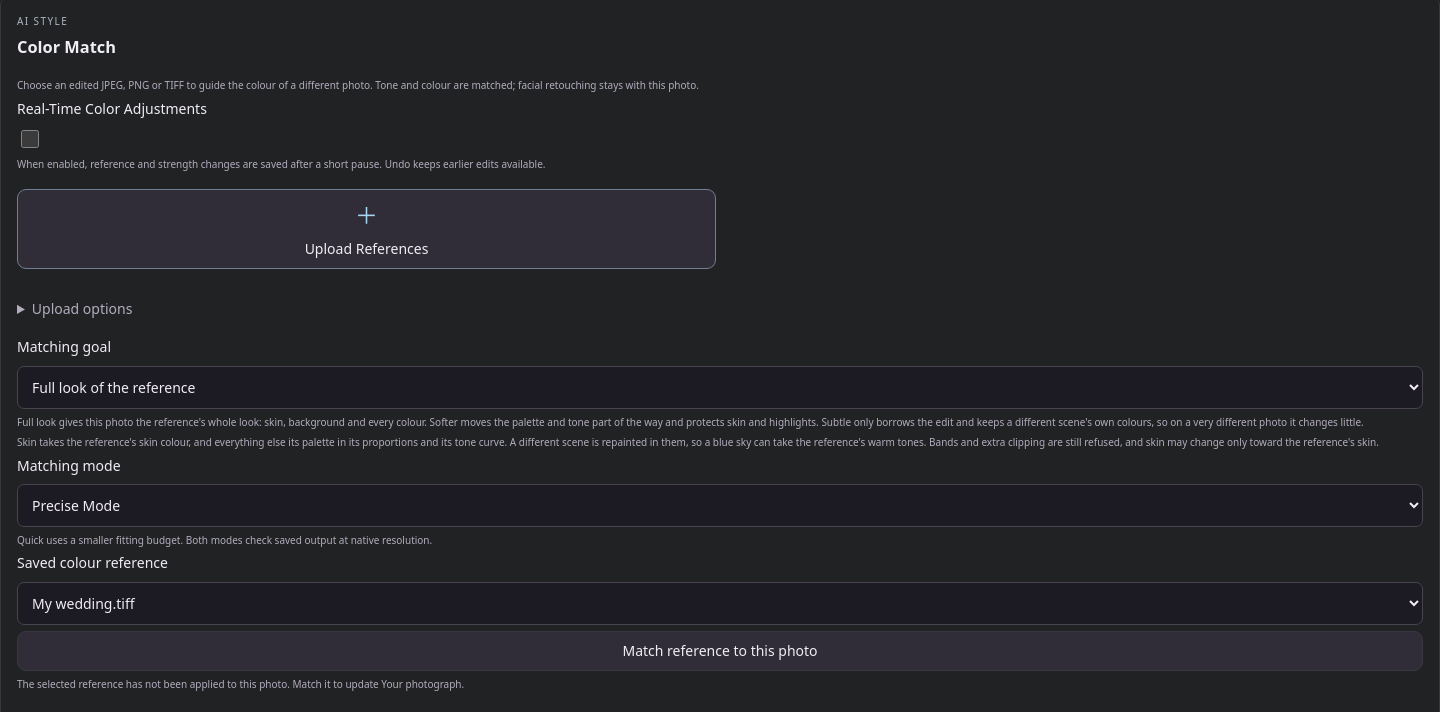
never applies a one-click analysis returned for another reference
The image size is (1440, 712).
Click the button "Match reference to this photo".
click(720, 651)  # box [17,631,1423,671]
(page scrolled)
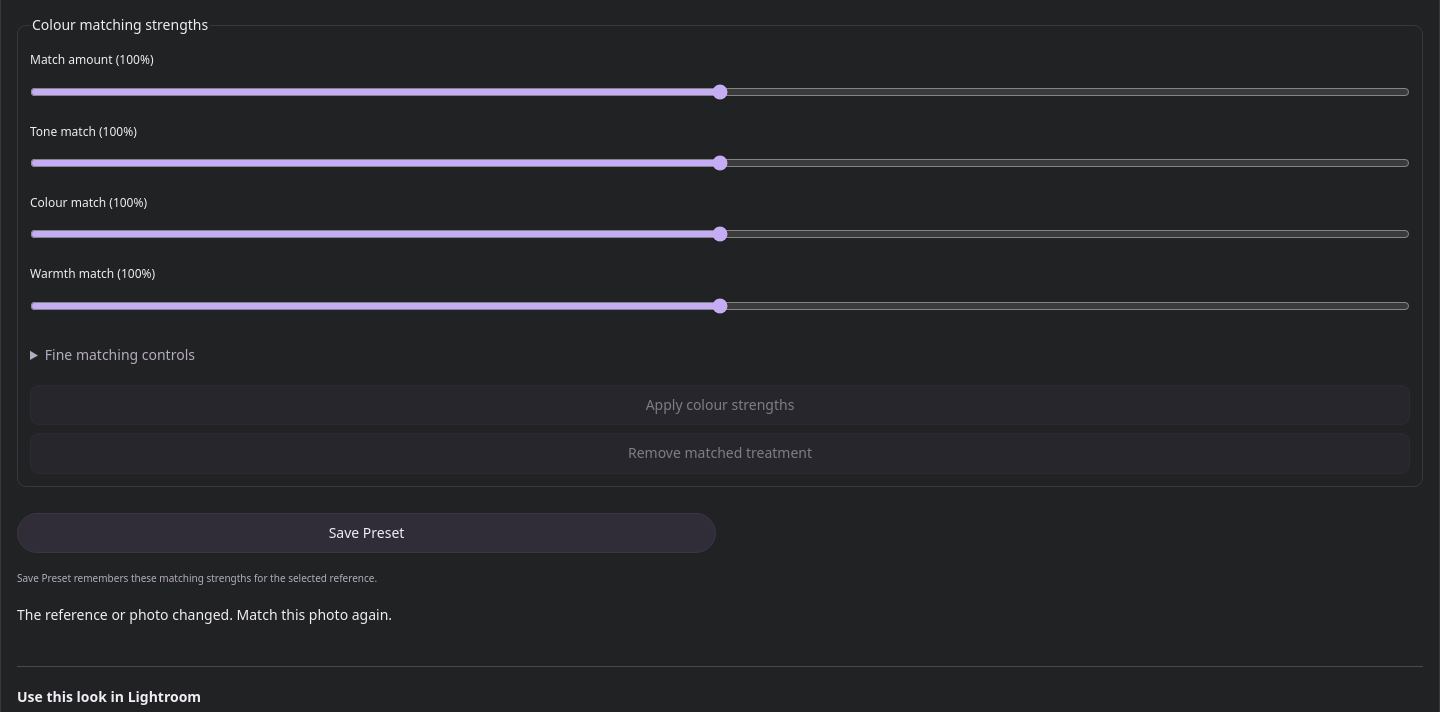
Result: the text "The reference or photo changed. Match this photo again." is shown at [17,606,392,624]
